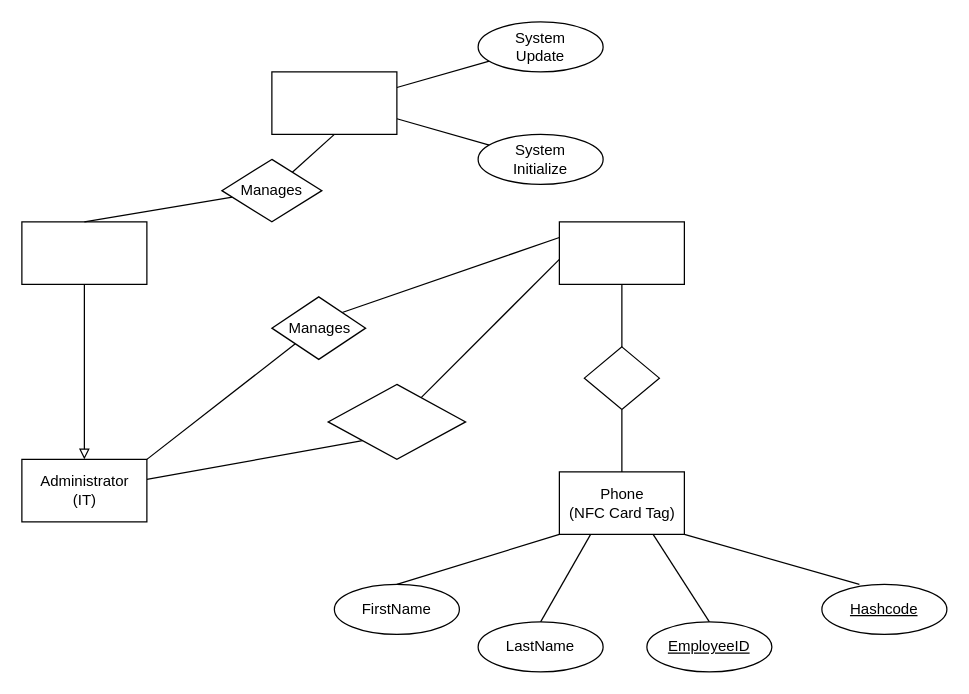
Image size: 969x694. Some labels were removed from this diagram. Each missing label, with the centre of its shape:
"Assigns Hashcode" goes at point 396,421.
"Has" goes at point 621,377.
"Root User (Maintenance)" goes at point 84,252.
"System" goes at point 334,102.
"User (Employee)" goes at point 621,252.
